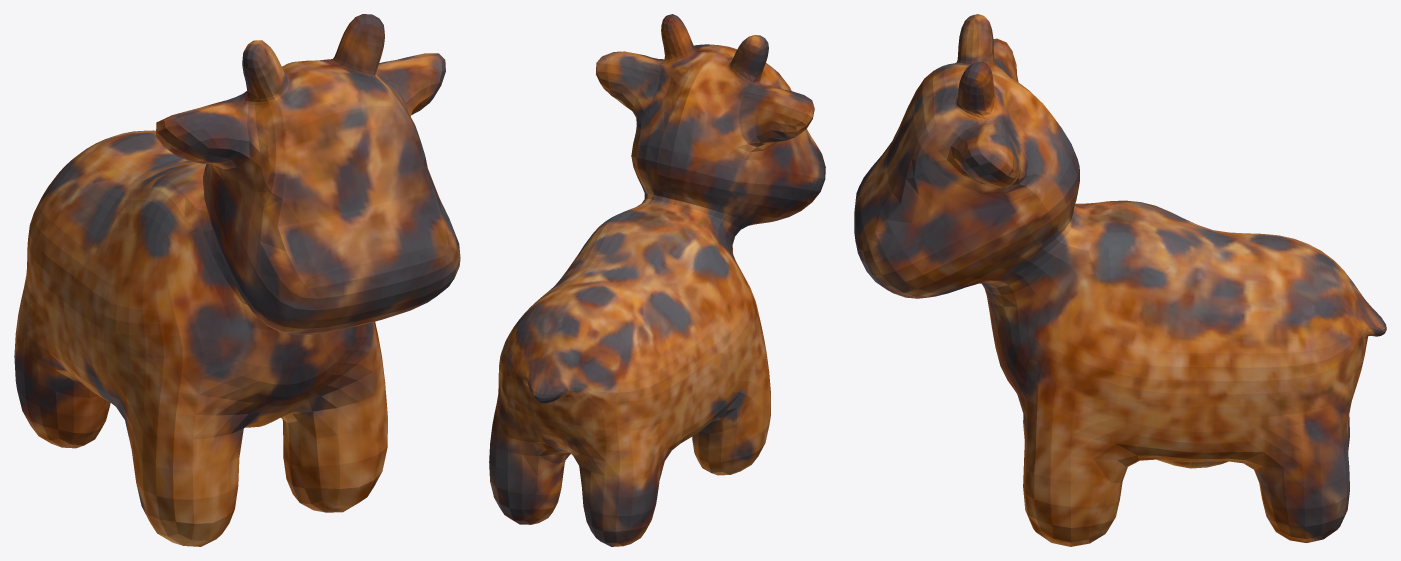
File: frozen_t4.glb
The picture shows the model from 3 angles, left to right: view 1: azimuth 30°, elevation 25°; view 2: azimuth 150°, elevation 25°; view 3: azimuth 270°, elevation 25°; orthographic projection. The views are drawn at different scales.
Parts seen in each view (by area): view 1: geometry_0; view 2: geometry_0; view 3: geometry_0.
Part boxes in pixels (left/top/right/bottom): geometry_0: left=14, top=14, right=460, bottom=546; geometry_0: left=489, top=14, right=825, bottom=546; geometry_0: left=854, top=14, right=1386, bottom=546.
Size of the model in its own units: 0.549 by 0.984 by 1.
